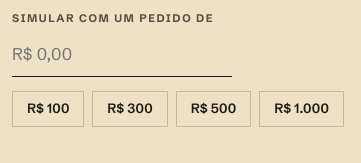
Test: SimulationBar › digitar lê centavos, como os outros campos de dinheiro
The image size is (361, 163).
Type "45990" into the field labelled "Simular com um pedido de" at x=122, y=54, box [12,32,232,76]
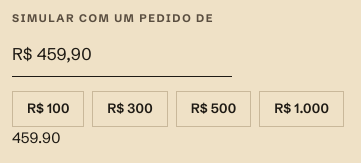
Result: the text "459.90" is shown at [12,128,60,146]
